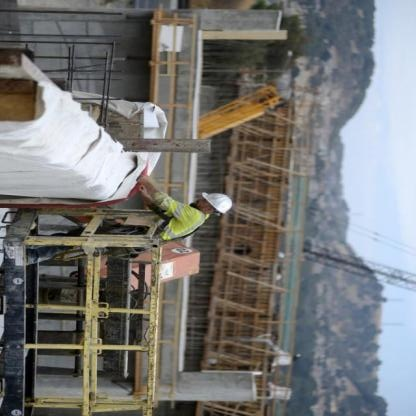vest: (157, 198, 212, 242)
white: (201, 189, 237, 215)
